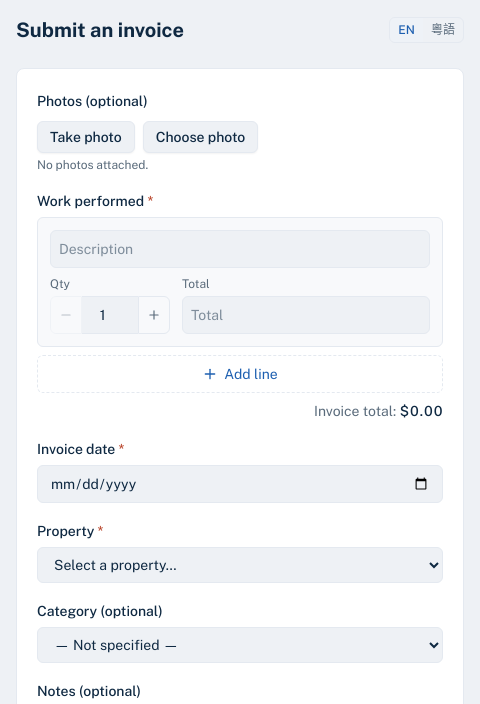
Test: VendorSubmit › leaves the vendor on Cantonese if they pick it from the in-page switcher
The width and height of the screenshot is (480, 704).
What coordinates should you click on to do the following:
click the button "粵語"
I would click on:
 (443, 30)
Its box is [423,18,463,42].
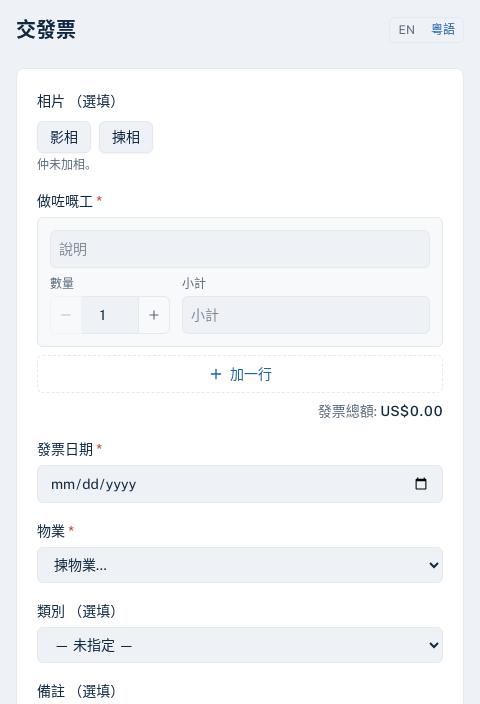
Expected: the heading "交發票" is shown, [16,16,76,44]
